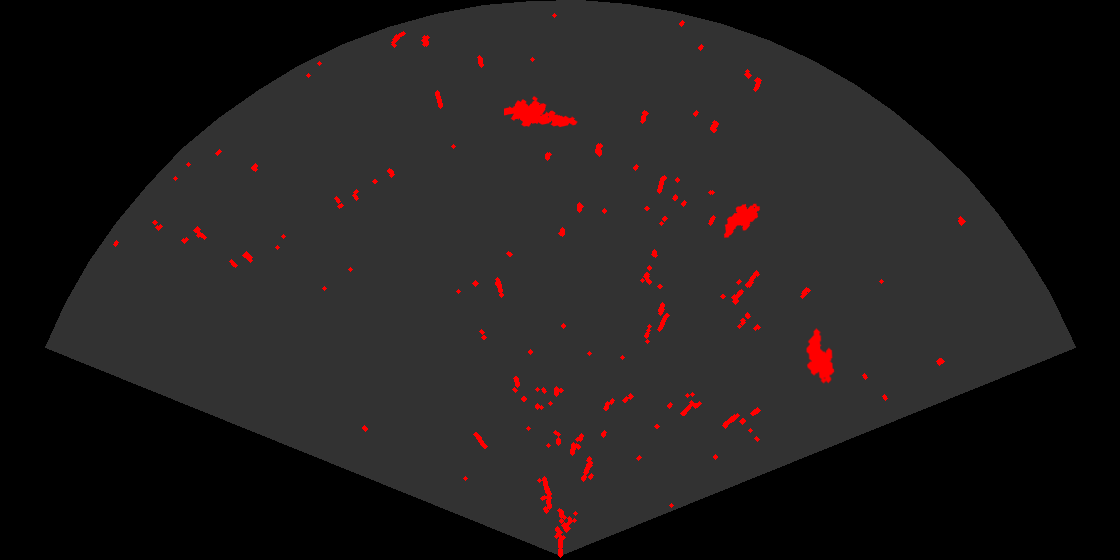AUV: (805, 326, 836, 385), (722, 202, 762, 239)
frogman: (504, 94, 579, 129)
